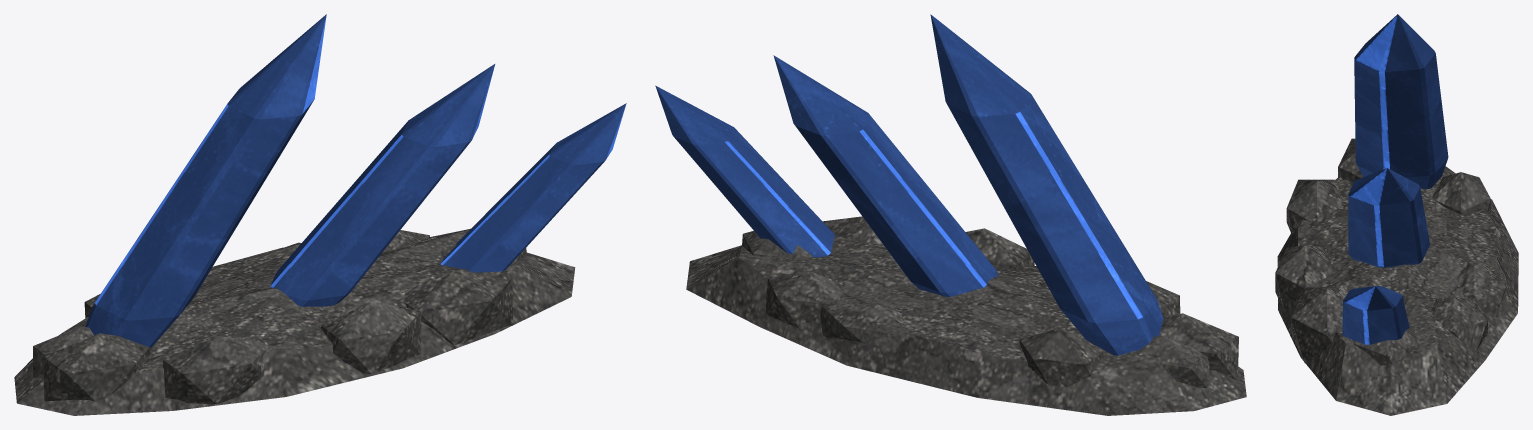
The model's file is ore_cluster_05_ridge.glb.
3 views of the same model, side by side, from view 1: azimuth 30°, elevation 25°; view 2: azimuth 150°, elevation 25°; view 3: azimuth 270°, elevation 25° (orthographic). The views are drawn at different scales.
Parts seen in each view (by area): view 1: ore_cluster_05_ridge; view 2: ore_cluster_05_ridge; view 3: ore_cluster_05_ridge.
Boxes of the visible parts, box(x1,y1,x2,y2) form: ore_cluster_05_ridge: box(14, 14, 626, 415); ore_cluster_05_ridge: box(655, 14, 1246, 415); ore_cluster_05_ridge: box(1275, 14, 1518, 415).
Size of the model in its own units: 50.7 by 25 by 19.
Materials: 3 (3 with a texture image).
